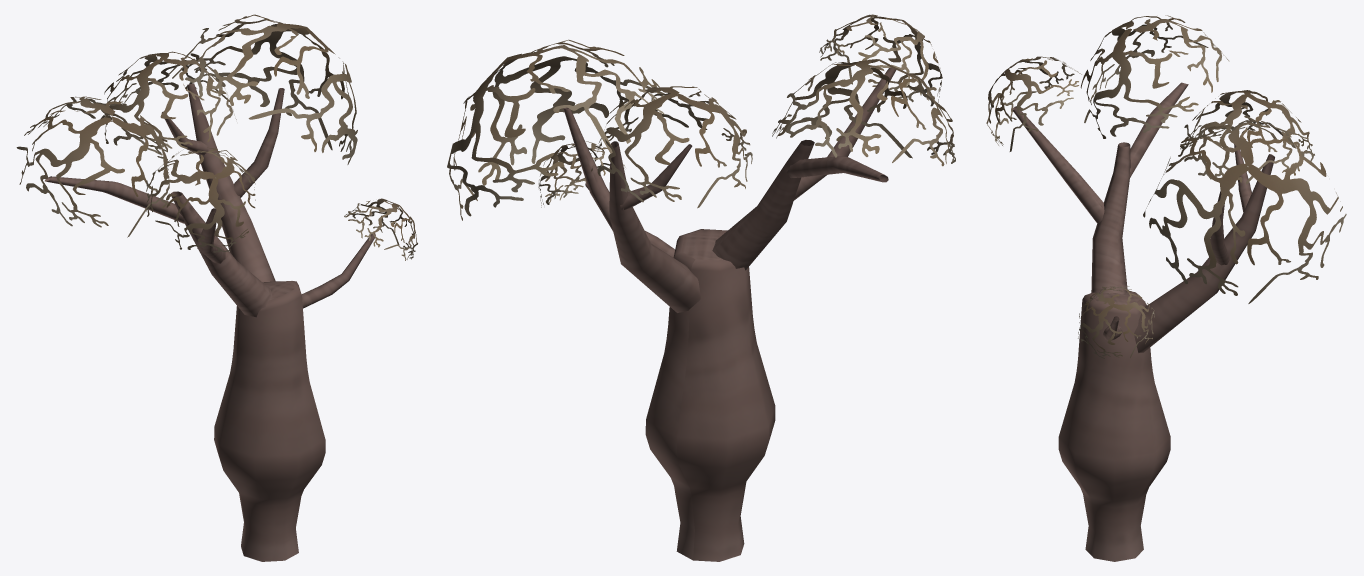
Rendered from ArvoreMediaCaatinga.fbx.
The picture shows the model from 3 angles, left to right: view 1: azimuth 30°, elevation 25°; view 2: azimuth 150°, elevation 25°; view 3: azimuth 270°, elevation 25°; orthographic projection. The views are drawn at different scales.
Parts seen in each view (by area): view 1: ArvoreMediaCaatinga; view 2: ArvoreMediaCaatinga; view 3: ArvoreMediaCaatinga.
Boxes of the visible parts, box(x1,y1,x2,y2) form: ArvoreMediaCaatinga: box(16, 14, 417, 561); ArvoreMediaCaatinga: box(447, 14, 955, 561); ArvoreMediaCaatinga: box(986, 15, 1346, 561).
Size of the model in its own units: 171 by 205 by 149.
